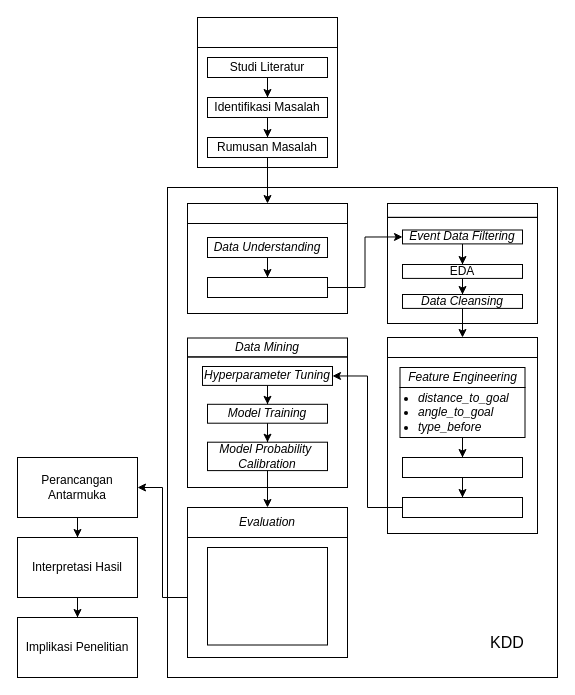
Image size: 575x695. Some labels were removed from this diagram. Each missing label, with the box of its shape:
Data Acquisition: (206, 276, 328, 298)
Data Preprocessing: (386, 202, 538, 217)
Data Selection: (186, 202, 348, 224)
Data Transformation: (386, 336, 538, 358)
Feature Selection: (402, 496, 522, 518)
ROC AUC Brier Score Akurasi Presisi F1-Score Recall: (206, 546, 328, 645)
Split Dataset: (402, 456, 522, 478)
Studi Pendahuluan: (196, 16, 338, 48)
